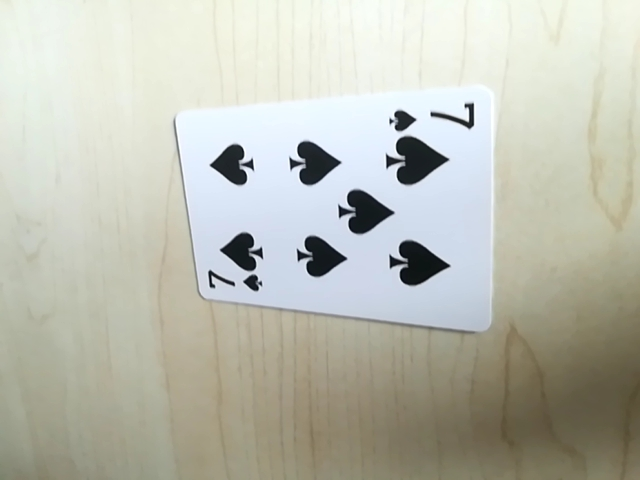ht 7: (384, 96, 479, 133), (201, 266, 266, 296)
